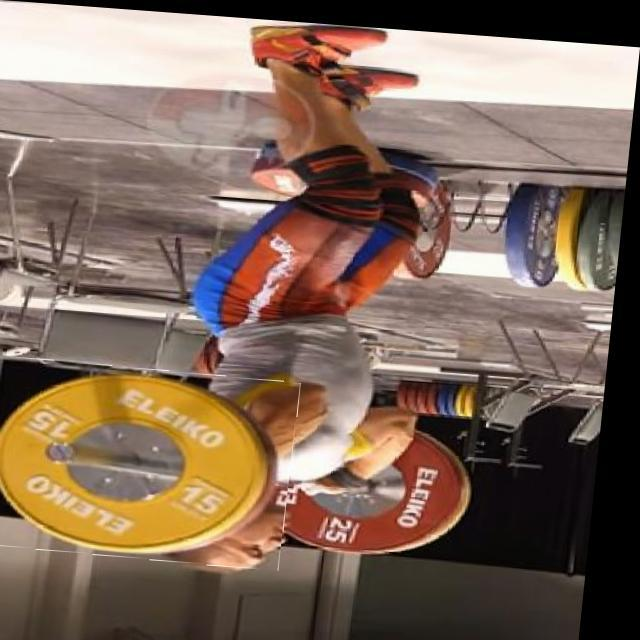barbell: (1, 356, 309, 565)
